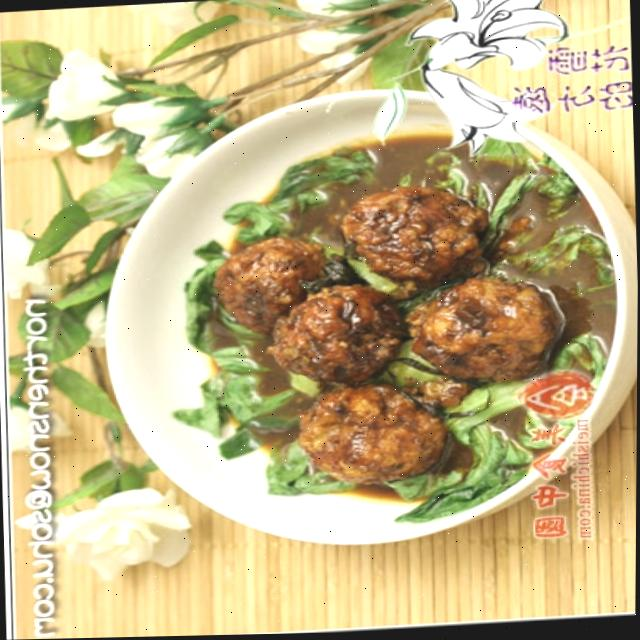猪肉菜式: (120, 69, 608, 523)
